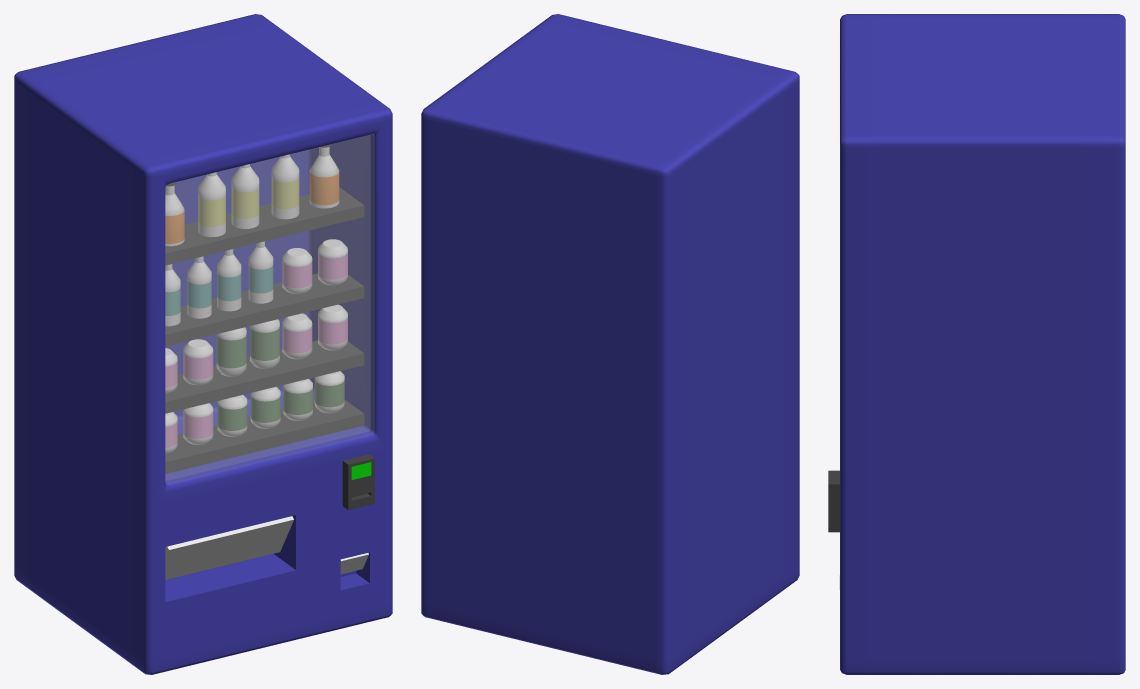
The model's file is vending machine#1.fbx.
3 renders of one model, left to right at view 1: azimuth 30°, elevation 25°; view 2: azimuth 150°, elevation 25°; view 3: azimuth 270°, elevation 25°, orthographic. The views are drawn at different scales.
Visible parts, largest first — view 1: pCylinder78; view 2: pCylinder78; view 3: pCylinder78.
Part boxes in pixels (<box>): pCylinder78: <box>14,14,392,674</box>; pCylinder78: <box>421,14,799,674</box>; pCylinder78: <box>828,14,1125,674</box>.
Bounding box in the file's own units: 5.7 × 11.16 × 5.61.
